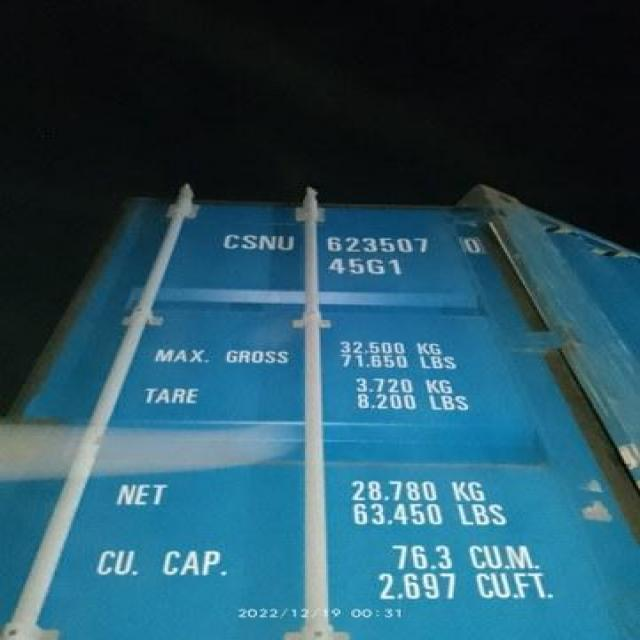container_number_h: (202, 220, 519, 301)
